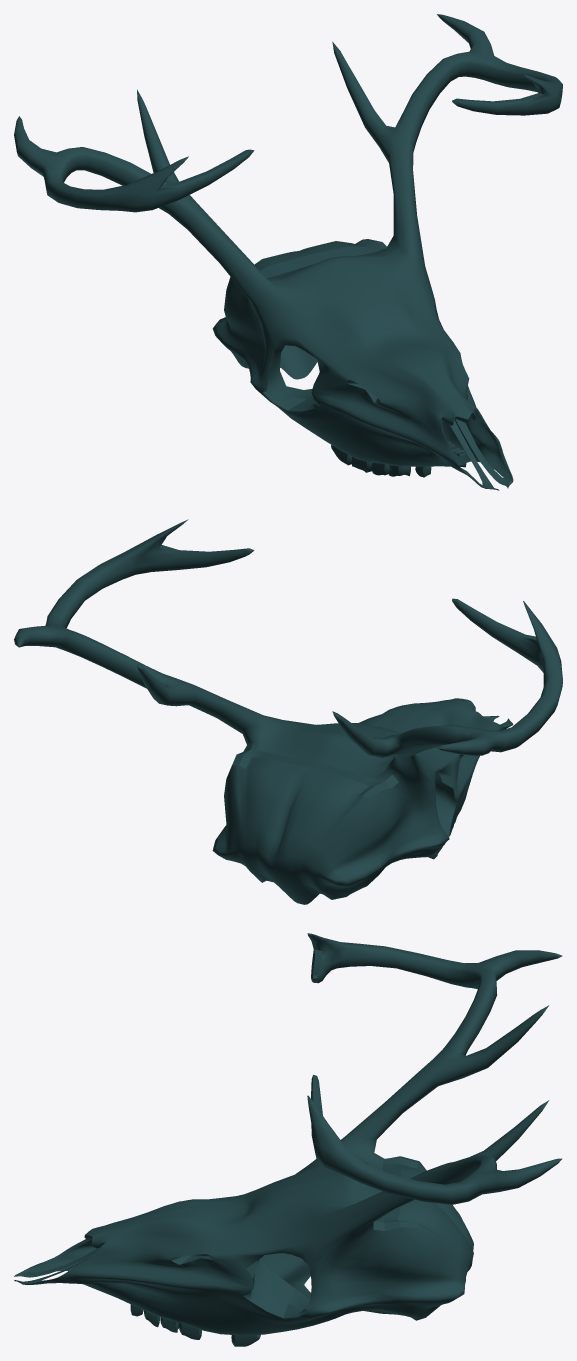
File: Deer_Skull.FBX
3 renders of one model, top to bottom at view 1: azimuth 30°, elevation 25°; view 2: azimuth 150°, elevation 25°; view 3: azimuth 270°, elevation 25°, orthographic.
Visible parts, largest first — view 1: Deer_Skull; view 2: Deer_Skull; view 3: Deer_Skull.
Boxes of the visible parts, bbox=[...] form: Deer_Skull: bbox=[14, 14, 562, 490]; Deer_Skull: bbox=[14, 519, 562, 904]; Deer_Skull: bbox=[14, 933, 562, 1346].
Size of the model in its own units: 97.85 by 96.6 by 60.23.
